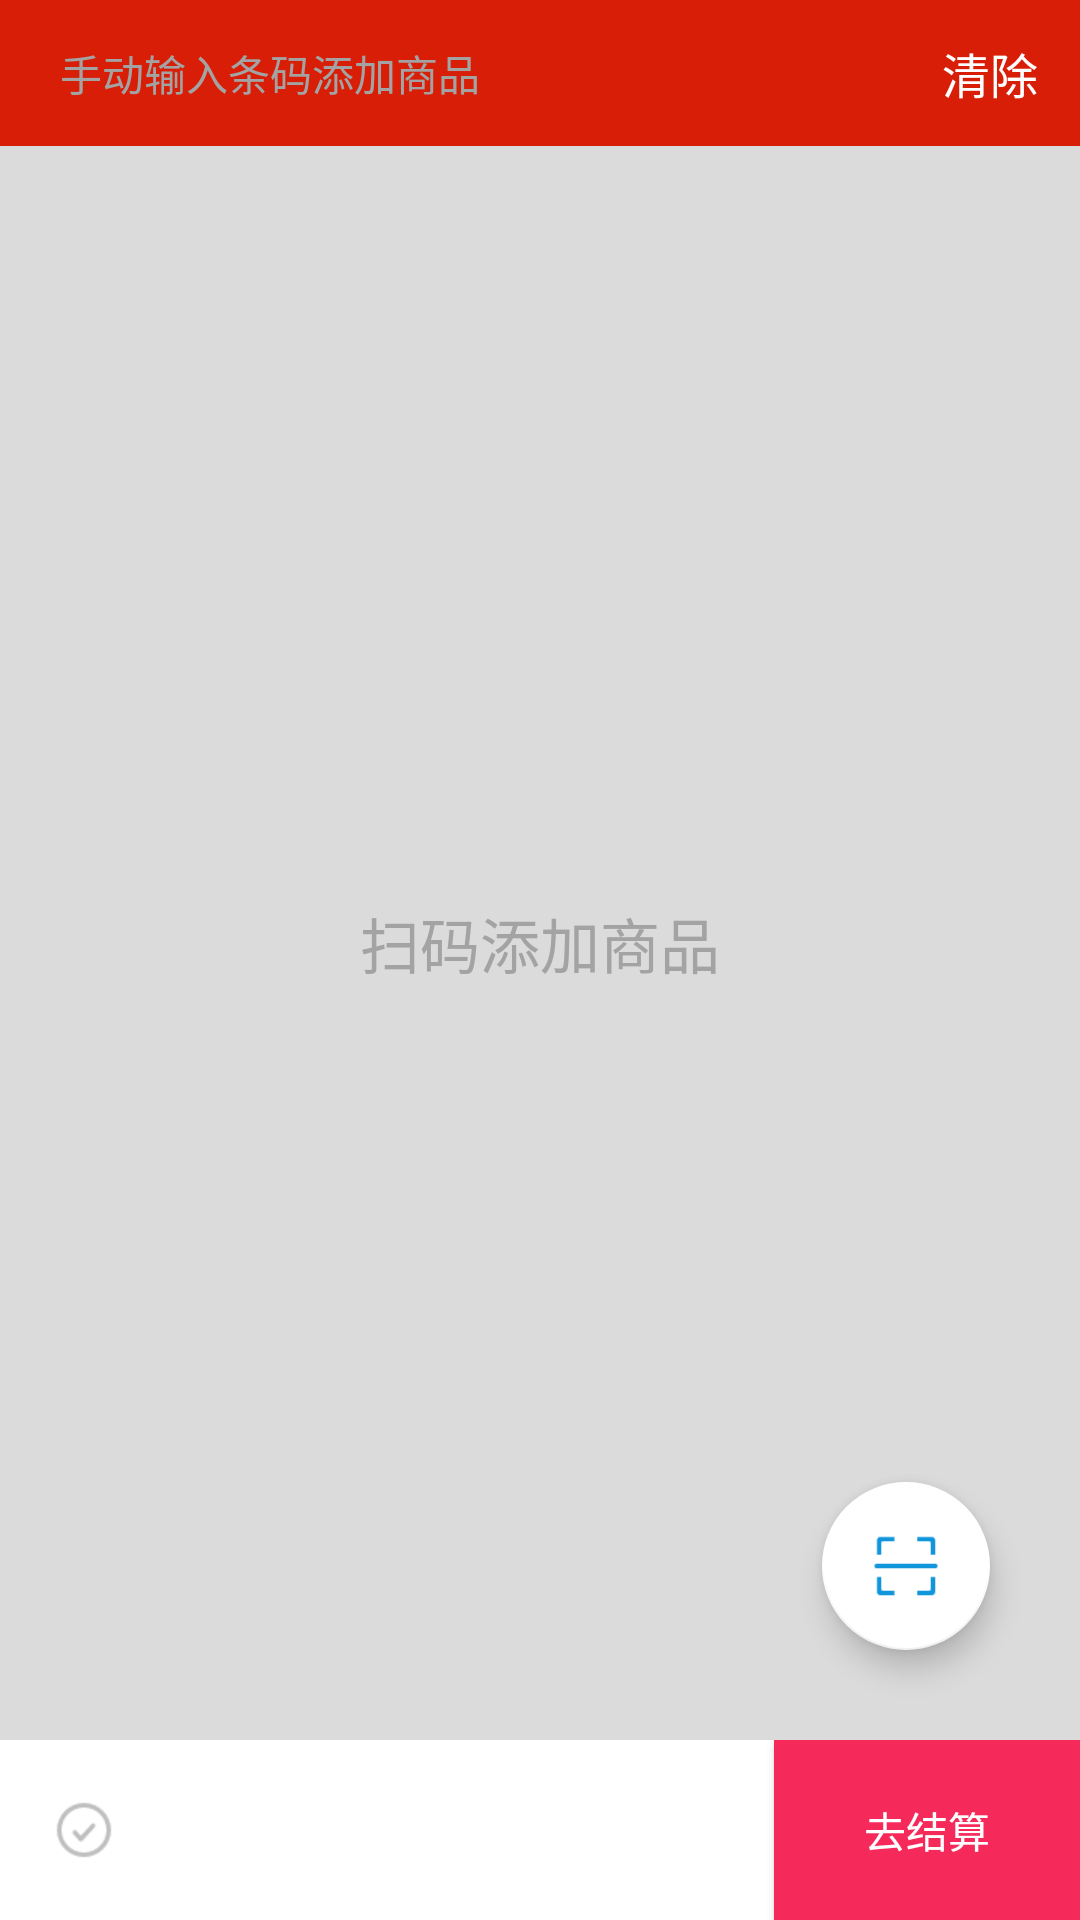

Named icons in this screenshot (1080px x 1920px) and their centers, (x,y):
scan: (906,1566)
